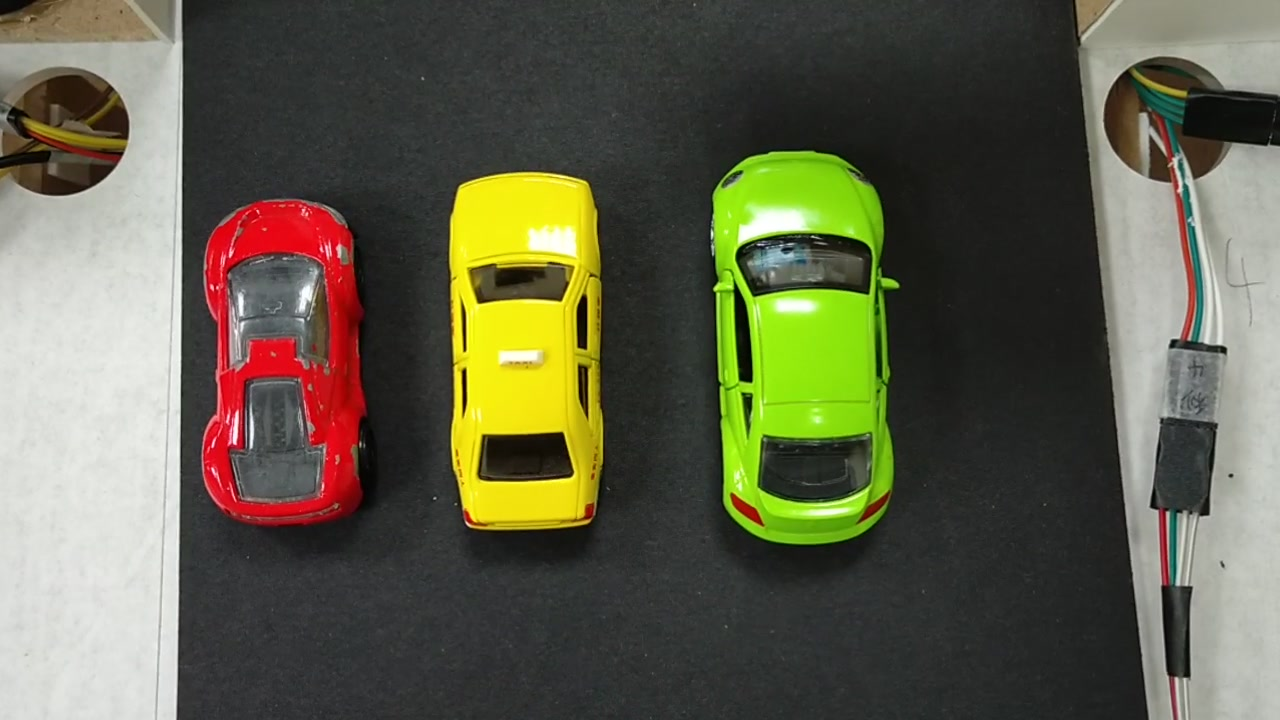car: (709, 156, 902, 538), (445, 174, 601, 533), (200, 201, 351, 517)
